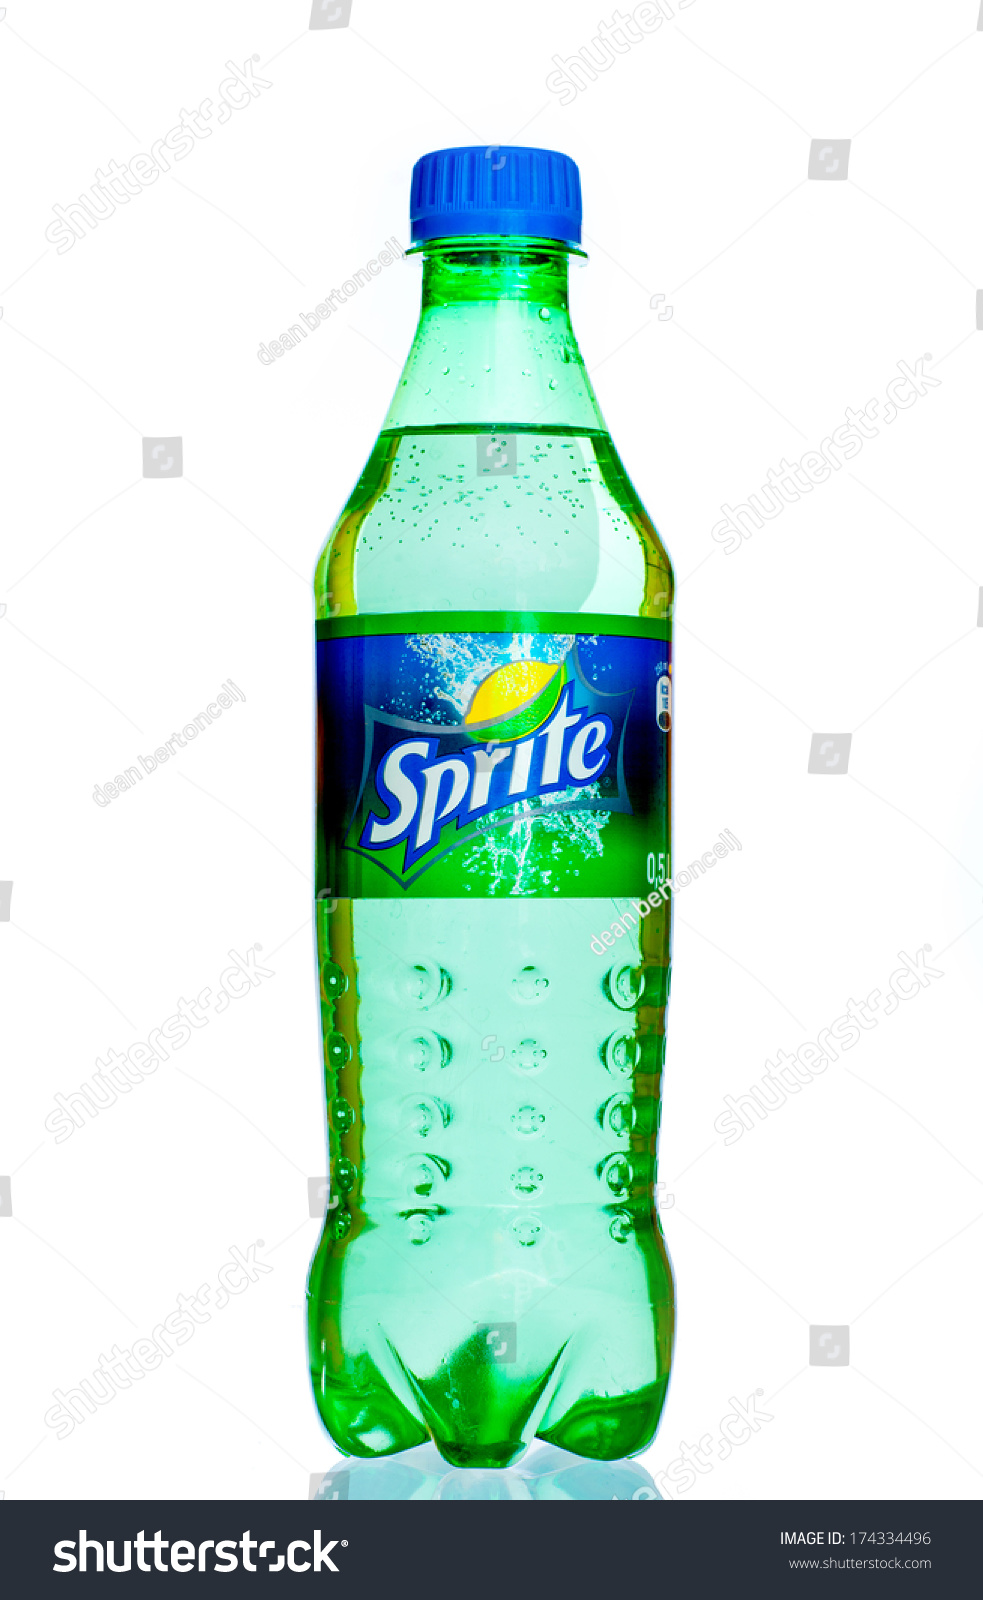sprite: (357, 681, 604, 853)
